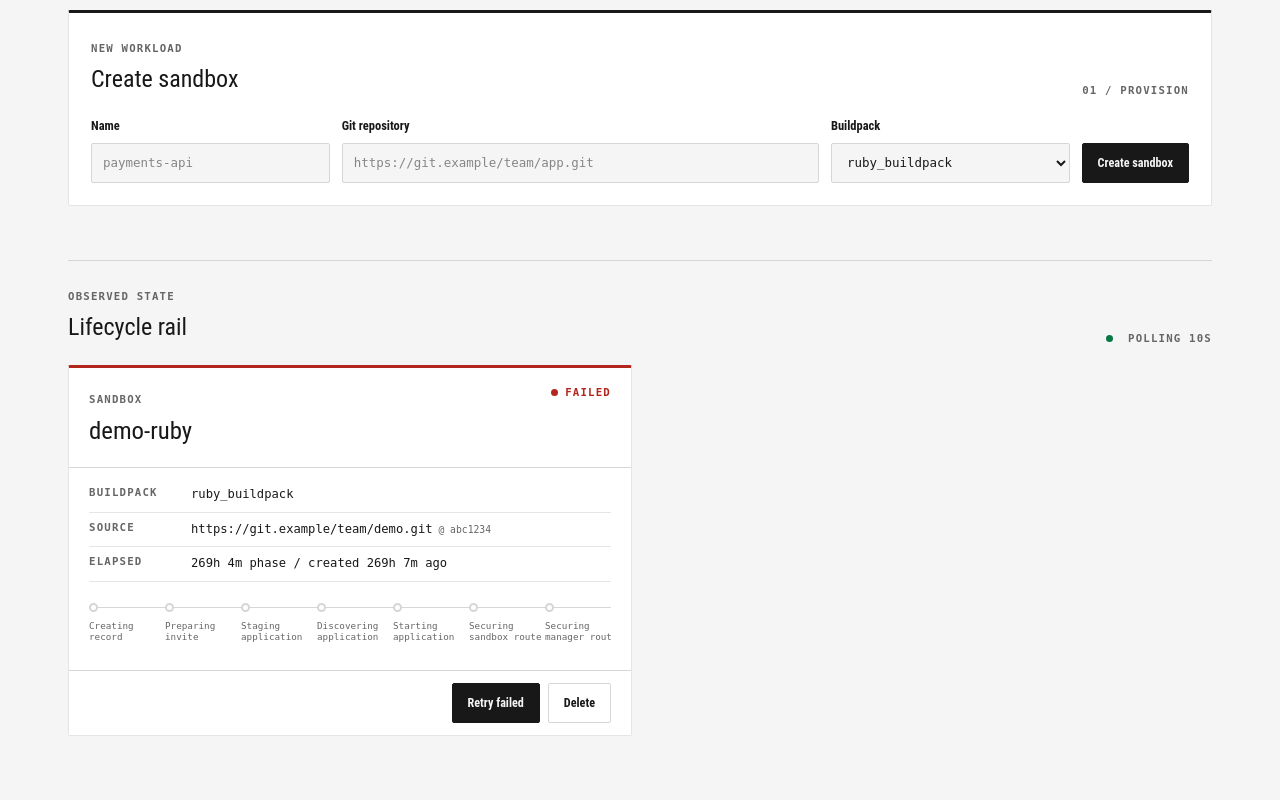
Scenario: reports a revalidation failure without retaining the pending route
(page scrolled)
Step 1. Click the button with aria-label "Retry demo-ruby" → (496, 703), box x1=452 y1=683 x2=540 y2=723
(page scrolled)
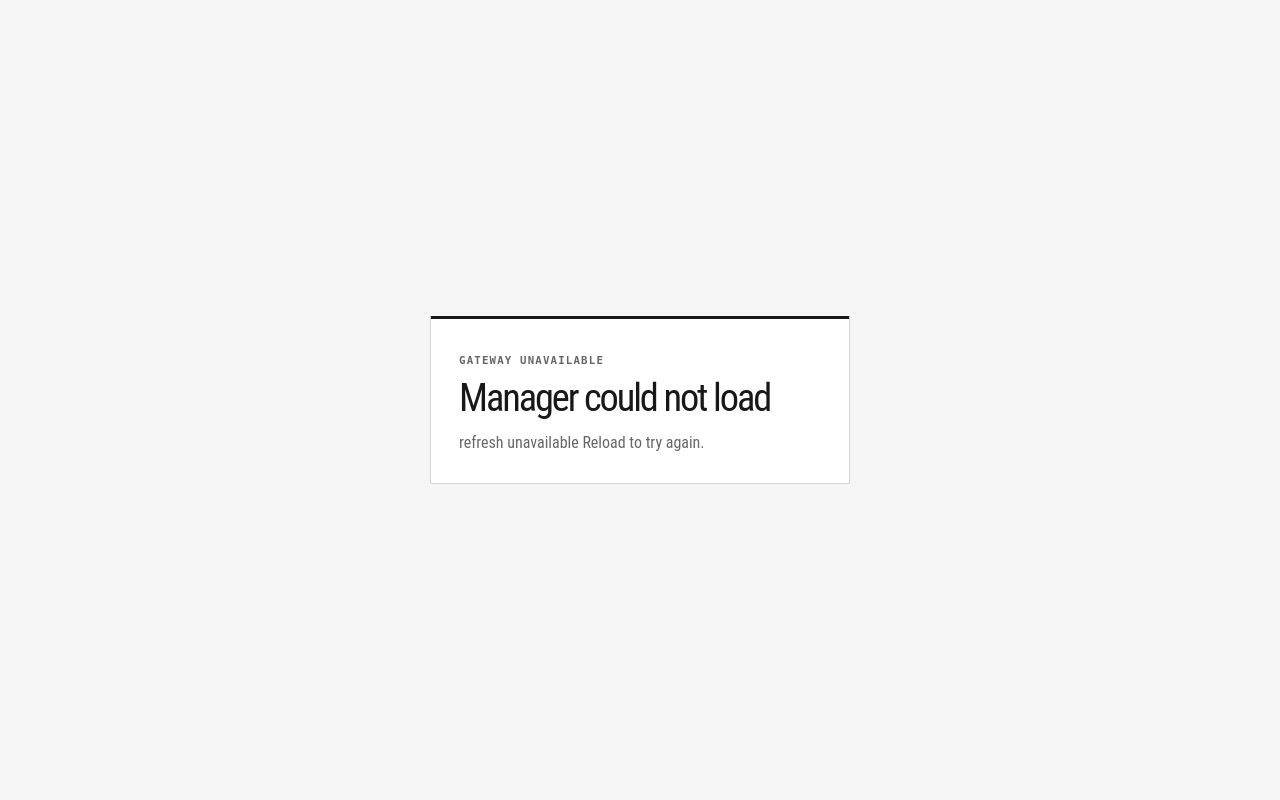
Expected: the message shows "refresh unavailable", x1=459 y1=433 x2=579 y2=452
